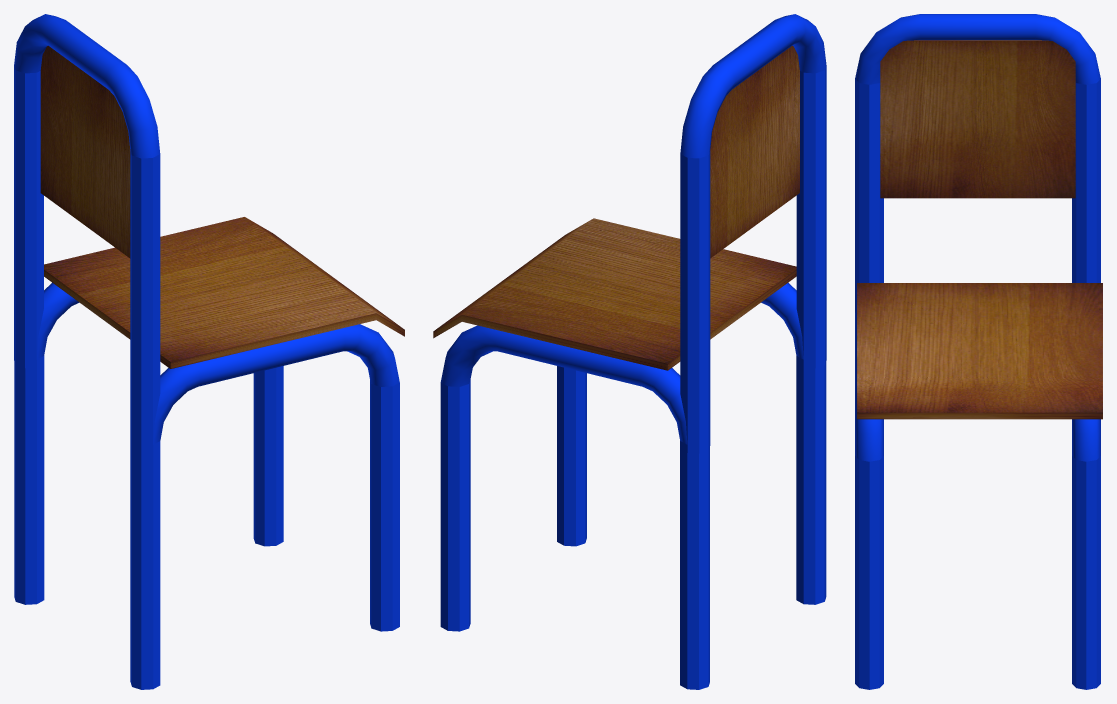
File: chaise_bleu.FBX
3 renders of one model, left to right at view 1: azimuth 30°, elevation 25°; view 2: azimuth 150°, elevation 25°; view 3: azimuth 270°, elevation 25°, orthographic. The views are drawn at different scales.
Parts seen in each view (by area): view 1: Torus002, Box003, Torus001, Box004; view 2: Torus002, Box003, Torus001, Box004; view 3: Box003, Box004, Torus001, Torus002.
Boxes of the visible parts, x1=… form: Torus002: x1=14, y1=282, x2=399, y2=689; Box003: x1=44, y1=217, x2=404, y2=368; Torus001: x1=14, y1=14, x2=160, y2=453; Box004: x1=40, y1=45, x2=130, y2=258; Torus002: x1=440, y1=282, x2=826, y2=689; Box003: x1=433, y1=218, x2=796, y2=370; Torus001: x1=680, y1=14, x2=826, y2=453; Box004: x1=710, y1=45, x2=799, y2=258; Box003: x1=857, y1=283, x2=1102, y2=419; Box004: x1=880, y1=40, x2=1075, y2=198; Torus001: x1=855, y1=14, x2=1100, y2=312; Torus002: x1=855, y1=309, x2=1100, y2=689.
Size of the model in its own units: 19.85 by 42.74 by 17.14.
2 materials, 1 textured.
